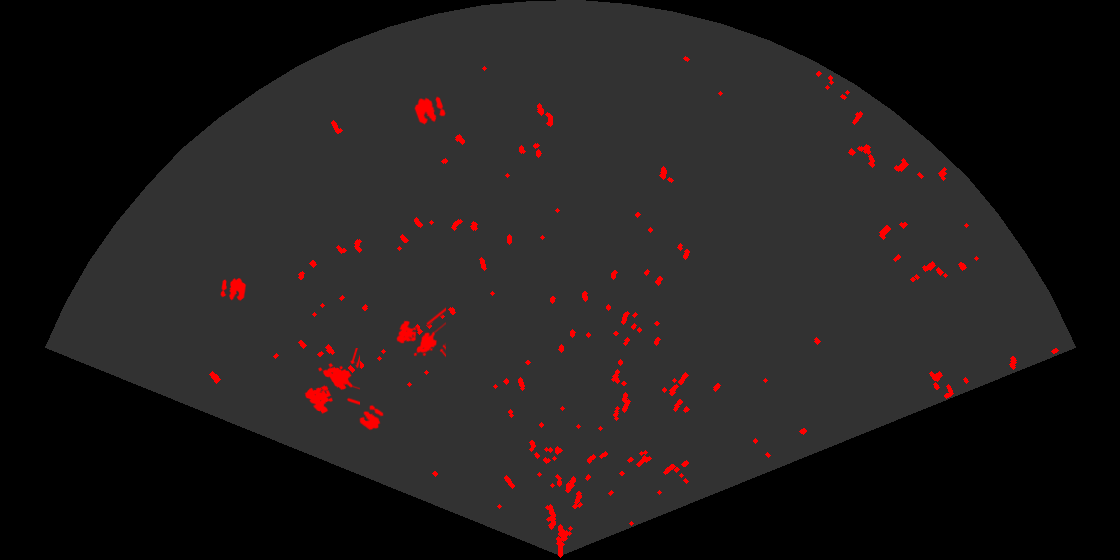ball: (413, 95, 447, 126), (358, 403, 385, 432), (219, 276, 248, 303)
cage: (303, 348, 360, 416), (395, 306, 446, 359)
